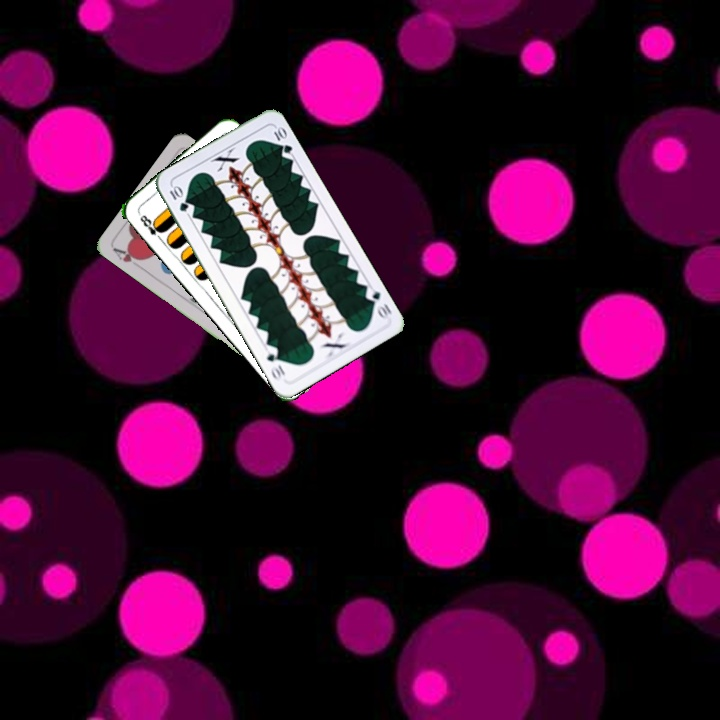E8: (136, 211, 166, 243)
G10: (361, 285, 394, 323), (165, 181, 191, 214)
HA: (110, 244, 146, 272)
